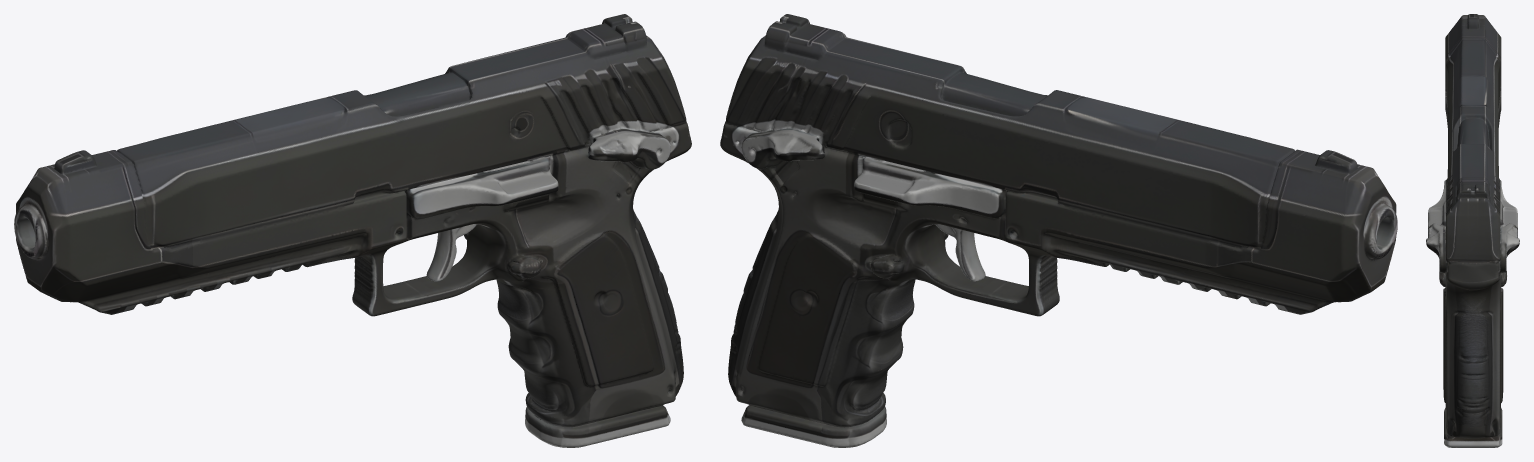
The model's file is kadance.glb.
The picture shows the model from 3 angles, left to right: view 1: azimuth 30°, elevation 25°; view 2: azimuth 150°, elevation 25°; view 3: azimuth 270°, elevation 25°; orthographic projection. The views are drawn at different scales.
Visible parts, largest first — view 1: tripo_node_6a3f161f-a9d8-405d-9f14-4258b72d4af7; view 2: tripo_node_6a3f161f-a9d8-405d-9f14-4258b72d4af7; view 3: tripo_node_6a3f161f-a9d8-405d-9f14-4258b72d4af7.
Boxes of the visible parts, box(x1,y1,x2,y2) form: tripo_node_6a3f161f-a9d8-405d-9f14-4258b72d4af7: box(14, 14, 691, 447); tripo_node_6a3f161f-a9d8-405d-9f14-4258b72d4af7: box(720, 14, 1397, 447); tripo_node_6a3f161f-a9d8-405d-9f14-4258b72d4af7: box(1426, 14, 1519, 447).
Size of the model in its own units: 1 by 0.5793 by 0.1945.
1 material, 1 textured.
